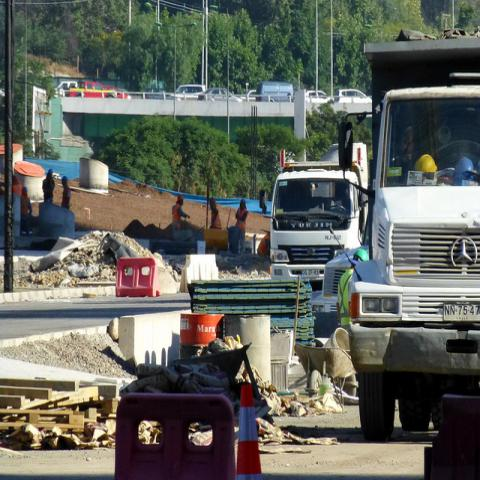car: (335, 88, 373, 103), (201, 89, 240, 102), (304, 88, 333, 104), (176, 84, 206, 95), (245, 90, 256, 101)
truck: (346, 35, 480, 441), (259, 142, 369, 284), (70, 82, 118, 98)
